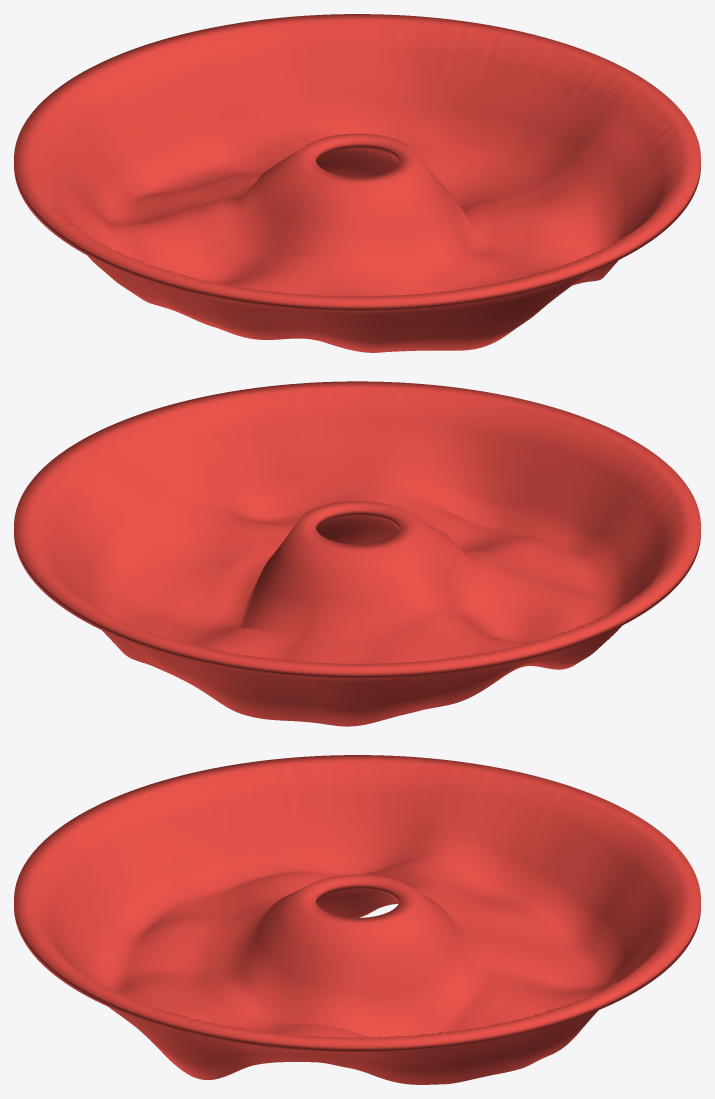
Rendered from UnderBase.fbx.
3 views of the same model, one above another, from view 1: azimuth 30°, elevation 25°; view 2: azimuth 150°, elevation 25°; view 3: azimuth 270°, elevation 25° (orthographic).
Visible parts, largest first — view 1: base; view 2: base; view 3: base.
Part boxes in pixels (<box>): base: <box>14,14,700,352</box>; base: <box>14,381,700,726</box>; base: <box>14,755,700,1084</box>.
Size of the model in its own units: 6835 by 1190 by 6835.
